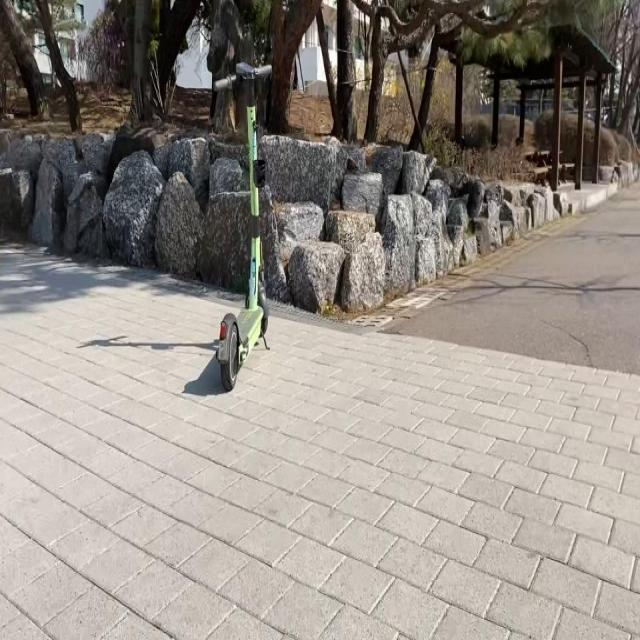sidewalk: (0, 183, 640, 639)
